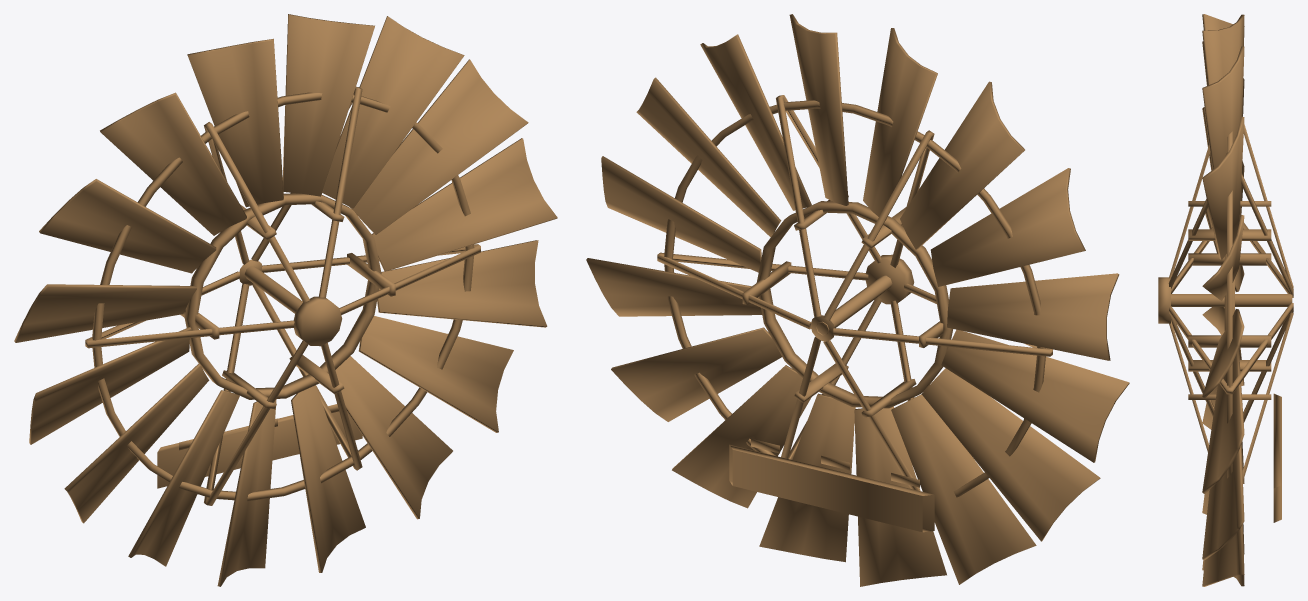
Rendered from windmill-blades.glb.
The picture shows the model from 3 angles, left to right: view 1: azimuth 30°, elevation 25°; view 2: azimuth 150°, elevation 25°; view 3: azimuth 270°, elevation 25°; orthographic projection. The views are drawn at different scales.
Visible parts, largest first — view 1: FtrWindmillRetro_node4; view 2: FtrWindmillRetro_node4; view 3: FtrWindmillRetro_node4.
Boxes of the visible parts, left/top/right/bottom form: FtrWindmillRetro_node4: left=14, top=14, right=557, bottom=586; FtrWindmillRetro_node4: left=586, top=14, right=1129, bottom=586; FtrWindmillRetro_node4: left=1158, top=14, right=1293, bottom=586.
Size of the model in its own units: 14.54 by 14.54 by 3.44.
